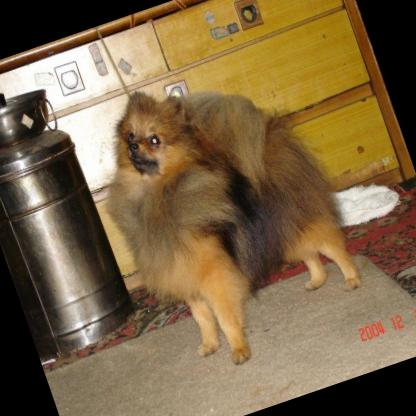Pomeranian: (70, 40, 375, 390)
